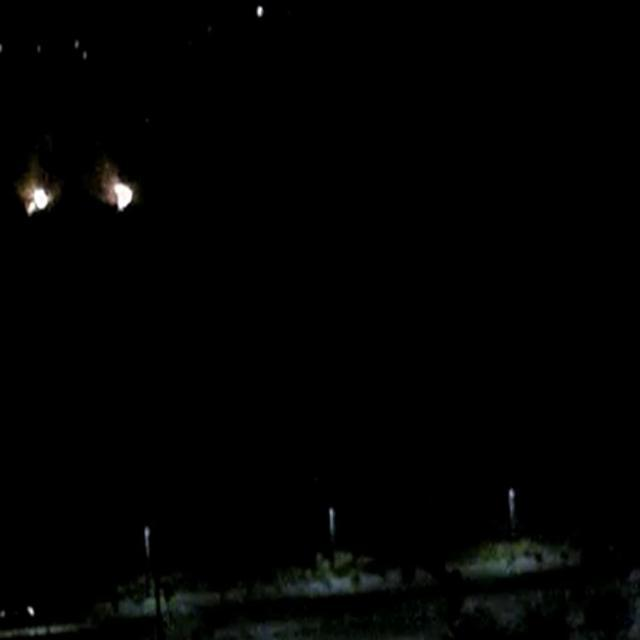Fire: (100, 166, 134, 209), (19, 170, 50, 217)
